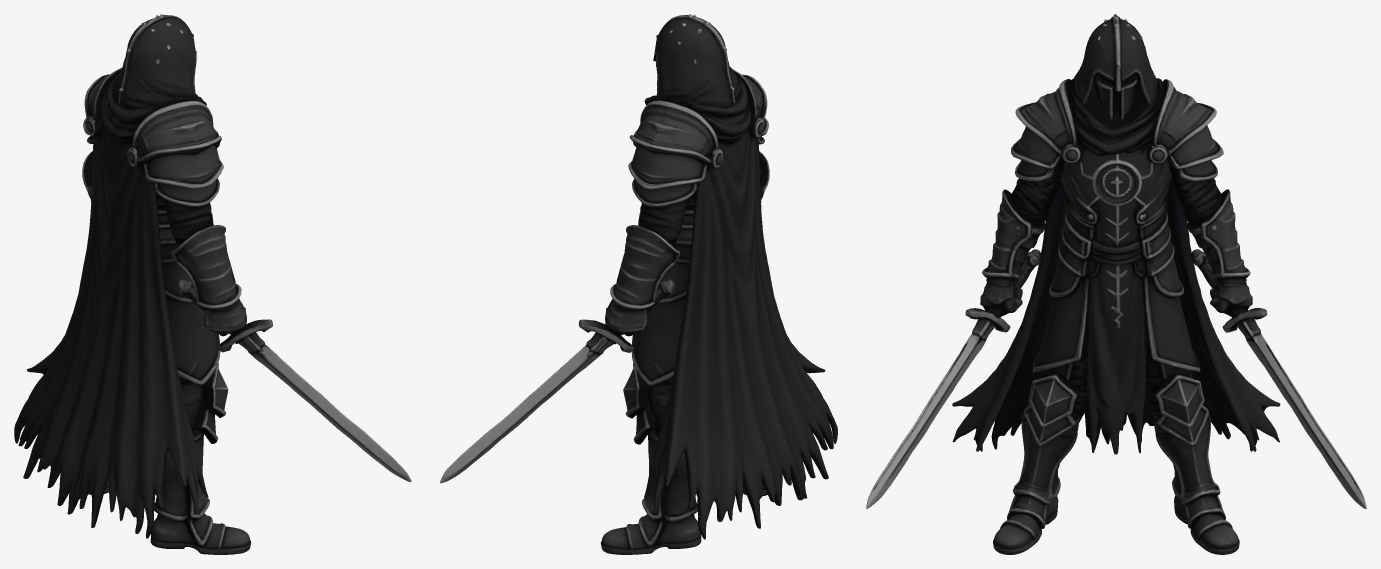
The model's file is dual_swordsman.glb.
3 views of the same model, side by side, from view 1: azimuth 30°, elevation 25°; view 2: azimuth 150°, elevation 25°; view 3: azimuth 270°, elevation 25° (orthographic). The views are drawn at different scales.
Parts seen in each view (by area): view 1: tripo_node_d9bd3d26; view 2: tripo_node_d9bd3d26; view 3: tripo_node_d9bd3d26.
Part boxes in pixels (bbox=[...]): tripo_node_d9bd3d26: bbox=[14, 14, 411, 554]; tripo_node_d9bd3d26: bbox=[440, 14, 837, 554]; tripo_node_d9bd3d26: bbox=[866, 14, 1366, 554].
Bounding box in the file's own units: 0.4955 × 1 × 0.8726.
Materials: 1 (1 with a texture image).
